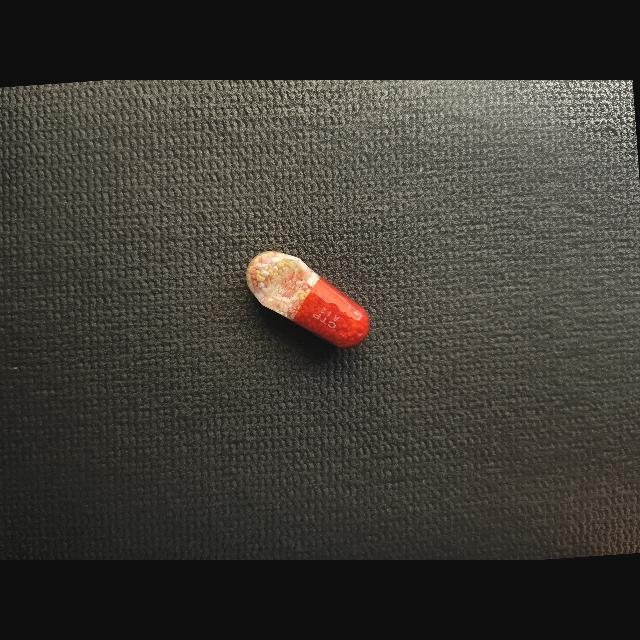Defective Capsule: (246, 251, 370, 348)
